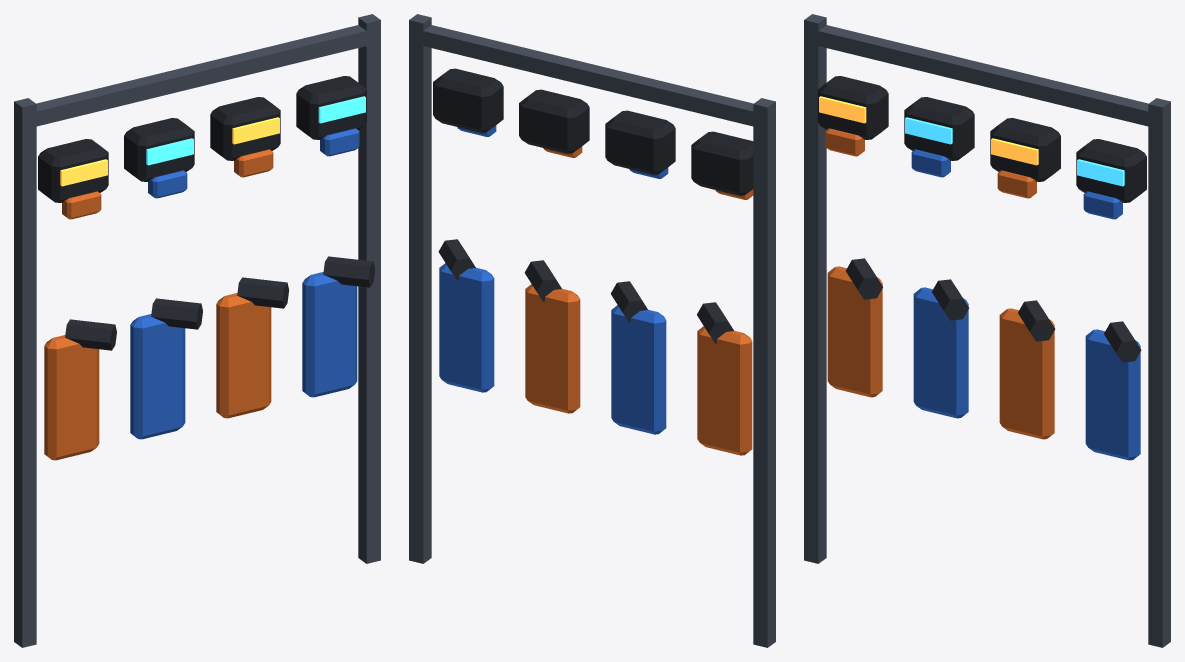
The model's file is gear_rack.glb.
3 renders of one model, left to right at view 1: azimuth 30°, elevation 25°; view 2: azimuth 150°, elevation 25°; view 3: azimuth 330°, elevation 25°, orthographic.
Parts seen in each view (by area): view 1: gear_rack; view 2: gear_rack; view 3: gear_rack.
Boxes of the visible parts, left/top/right/bottom form: gear_rack: left=14, top=14, right=380, bottom=647; gear_rack: left=409, top=14, right=775, bottom=647; gear_rack: left=804, top=14, right=1170, bottom=647.
Size of the model in its own units: 1.25 by 1.8 by 0.1583.
